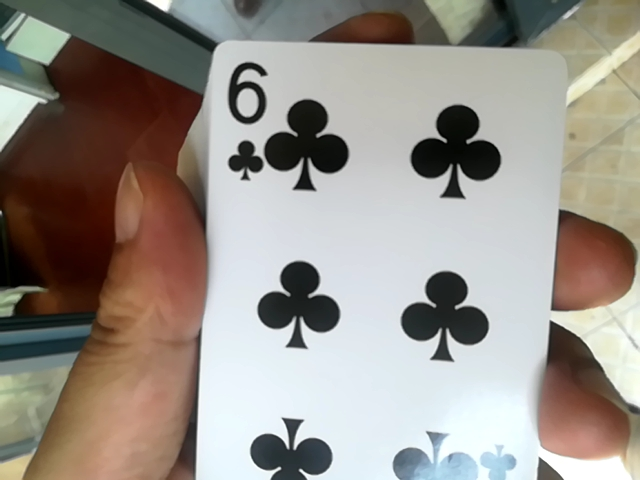mh 6: (200, 20, 562, 480)
